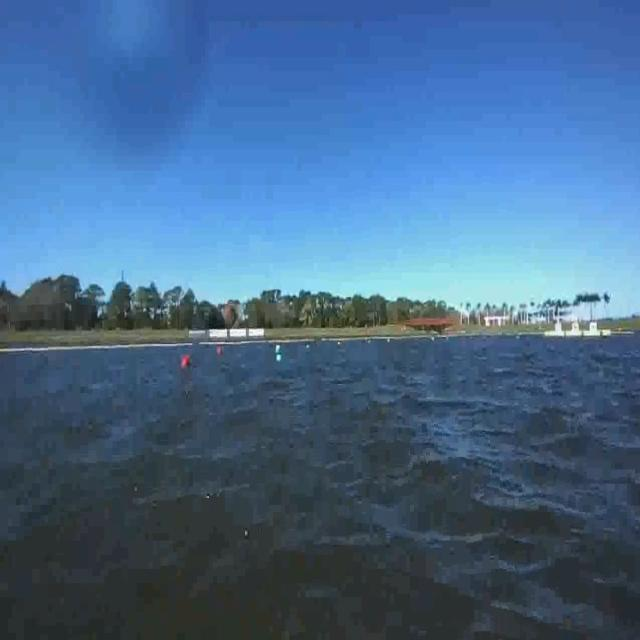green-buoy: (274, 352, 284, 366)
red-buoy: (182, 355, 190, 371), (218, 346, 222, 357)
